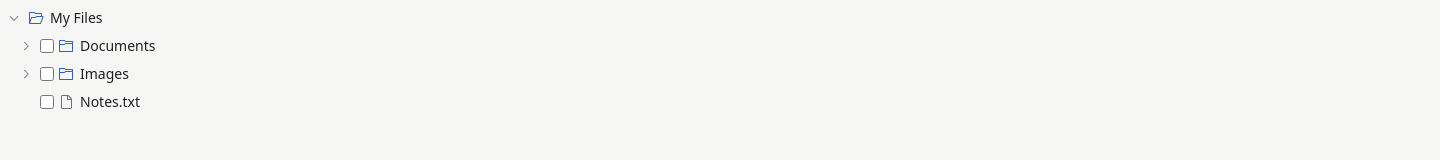
Test: FileTree › ctrl+click toggles the checkbox, and the root has no checkbox
Click the button "Notes.txt" at coordinates (110, 102), box [58, 88, 1432, 116]
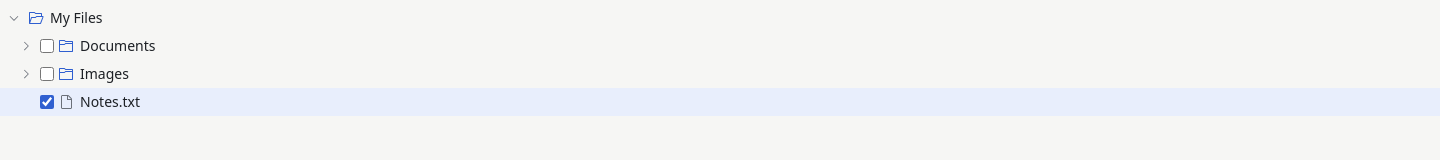
Expected: the checkbox named "Select Notes.txt" is checked, [40, 95, 54, 109]
Click the button "Notes.txt" at coordinates (110, 102), box [58, 88, 1432, 116]
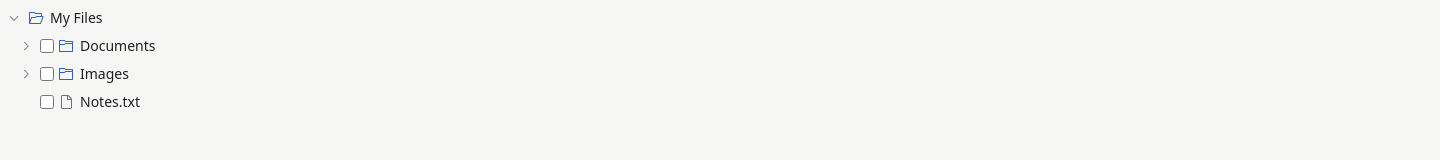
Expected: the checkbox named "Select Notes.txt" is not checked, [40, 95, 54, 109]
